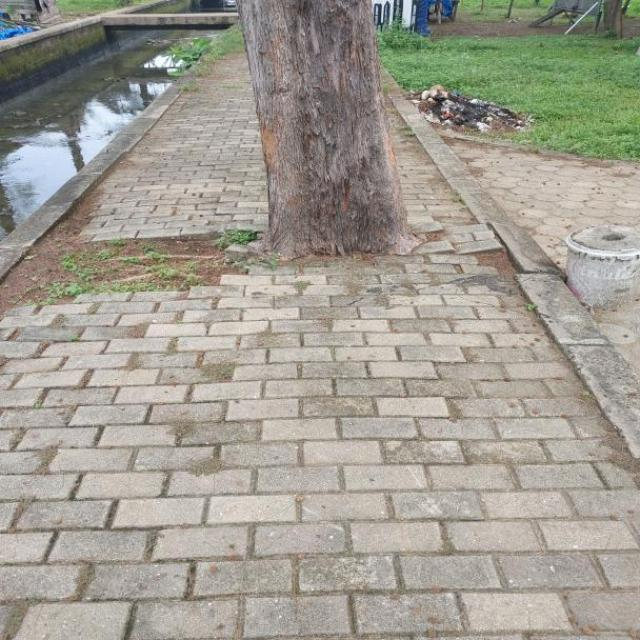tree ahead at: (238, 0, 406, 257)
